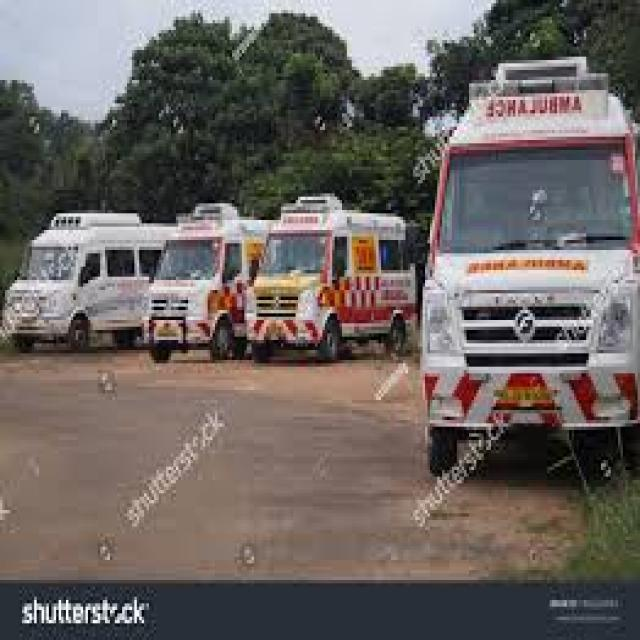ambulance: (420, 57, 640, 470), (247, 194, 416, 358), (7, 213, 159, 353), (147, 203, 260, 361)
